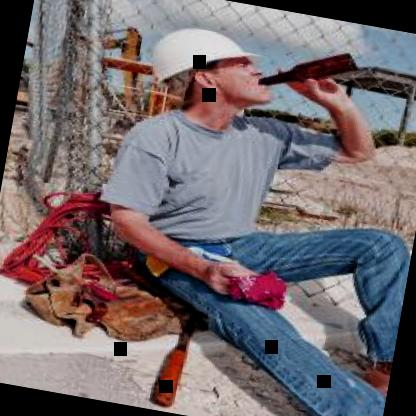helmet: (132, 9, 276, 126)
